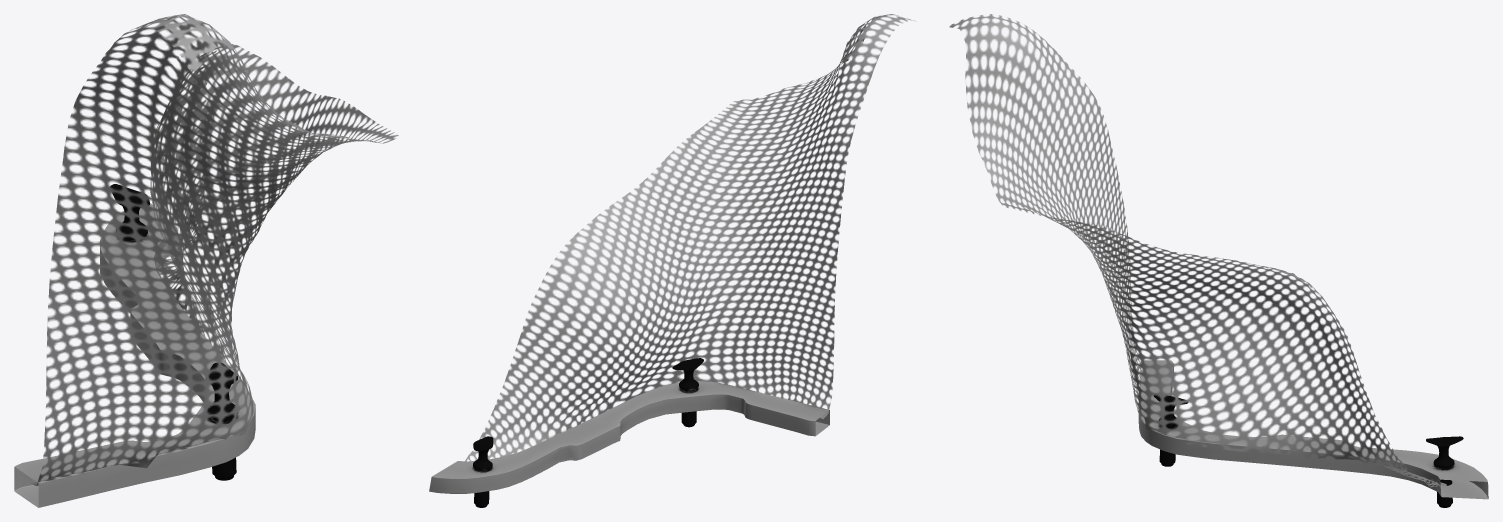
The model's file is left.glb.
3 views of the same model, side by side, from view 1: azimuth 30°, elevation 25°; view 2: azimuth 150°, elevation 25°; view 3: azimuth 270°, elevation 25° (orthographic). The views are drawn at different scales.
Visible parts, largest first — view 1: mesh-0; view 2: mesh-0; view 3: mesh-0.
Part boxes in pixels (box(x1,y1,x2,y2)): mesh-0: box(14, 14, 398, 507); mesh-0: box(429, 14, 915, 507); mesh-0: box(949, 14, 1488, 507).
Size of the model in its own units: 21.49 by 32.51 by 40.78.
1 material, 1 textured.
